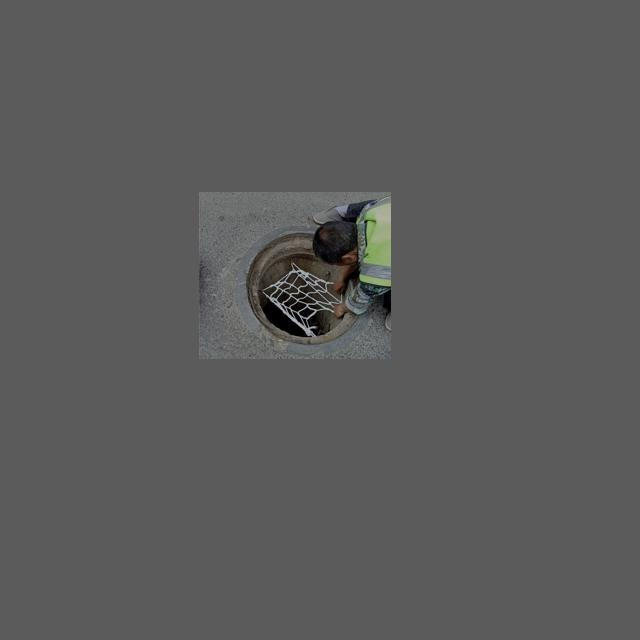lose: (241, 226, 368, 347)
